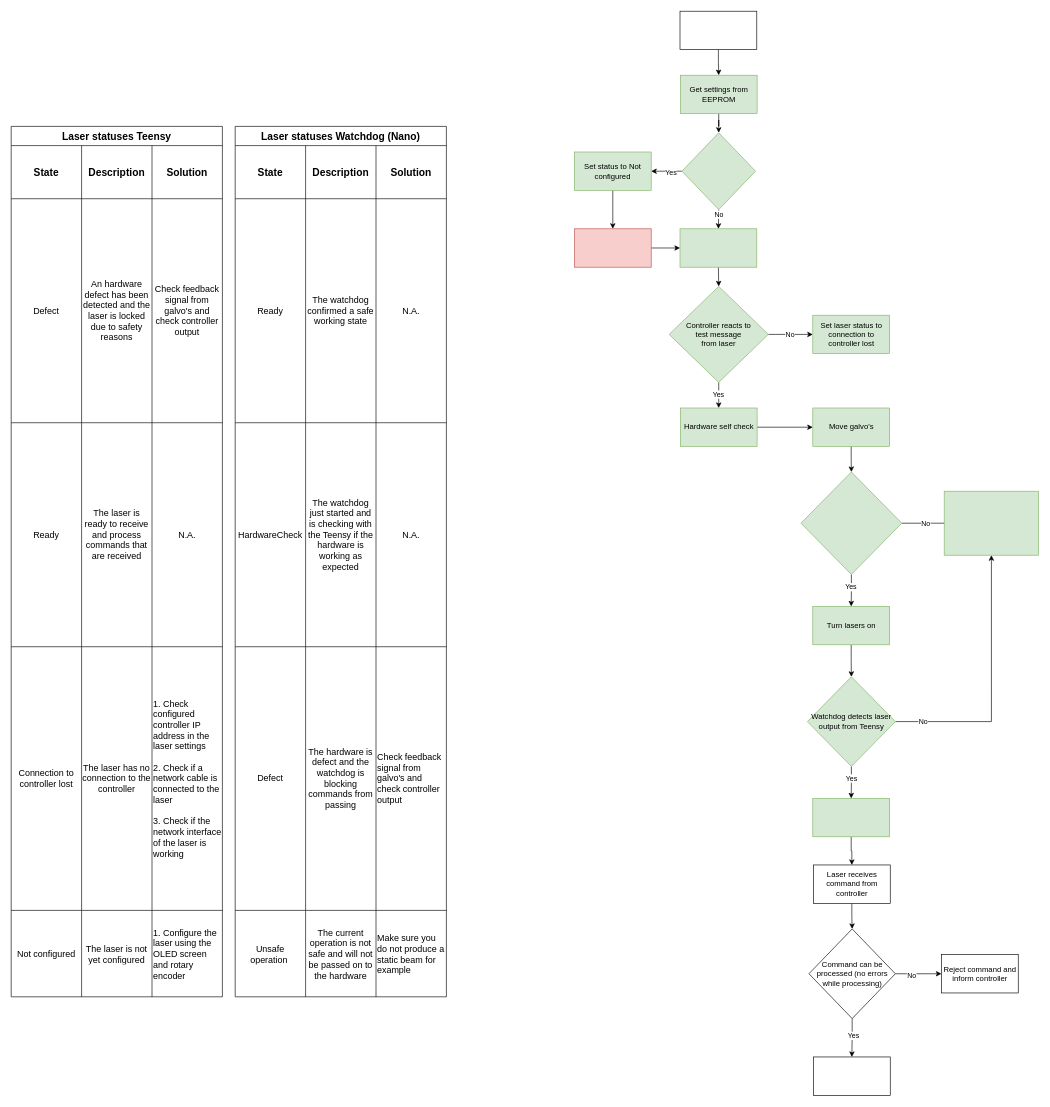
The diagram is 1050 pixels wide and 1107 high, and some of its shapes have lost their labels. The shapes that lost their labels are listed below. From the top down, each one's box as (x1, y1, x2, y2) in pixels, then its label:
(679, 11, 757, 50): Laser powered on
(681, 132, 756, 210): EEPROM settings empty
(574, 228, 651, 267): Show menu on OLED screen and let user enter settings
(679, 228, 757, 267): Test connection to controller
(800, 471, 902, 574): Galvo feedback output is changing
(944, 491, 1039, 555): Set laser status to defect and block the laser from executing commands
(812, 798, 890, 837): Set laser status to ready
